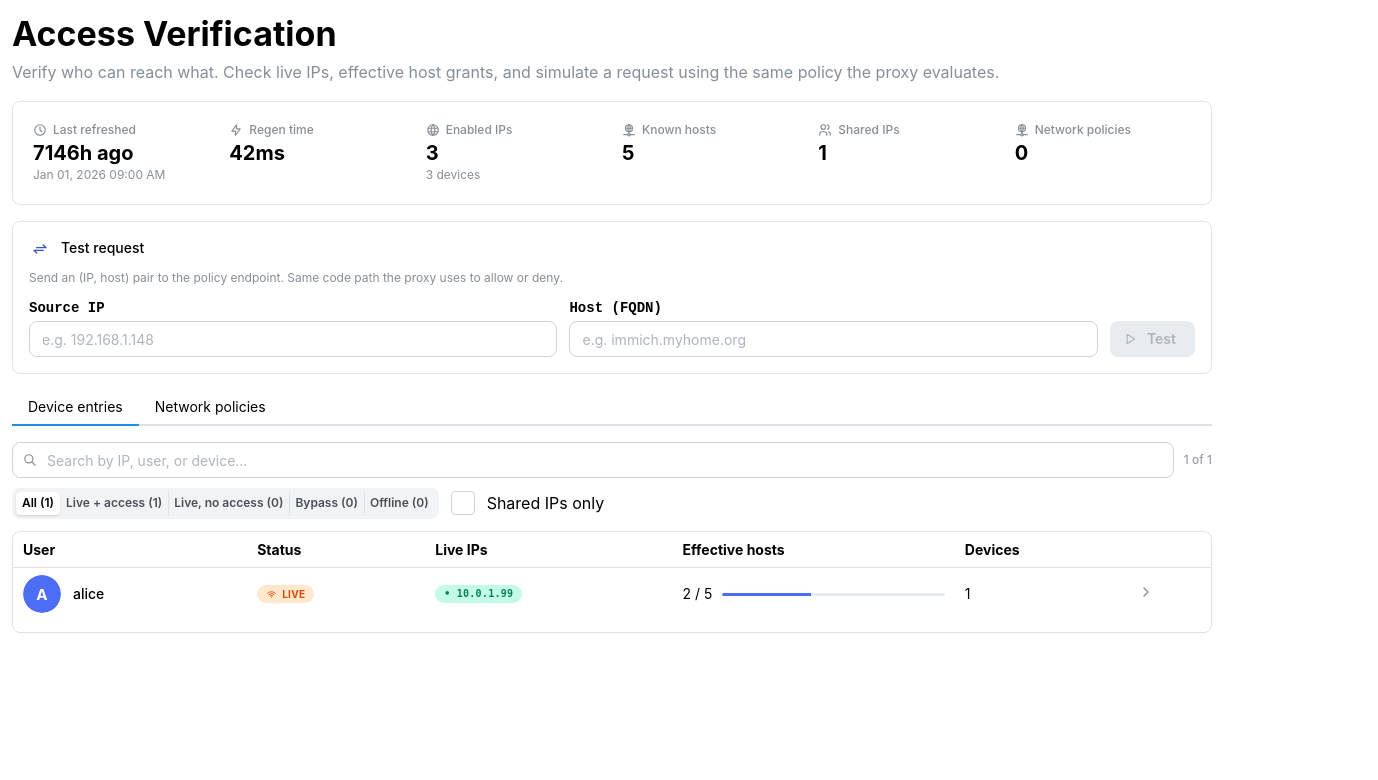
Test: PolicyAuditPage › clicking an IP badge populates the Source IP field in SimulateBar
Click the text "• 10.0.1.99" at (479, 594), box [444,586,513,602]
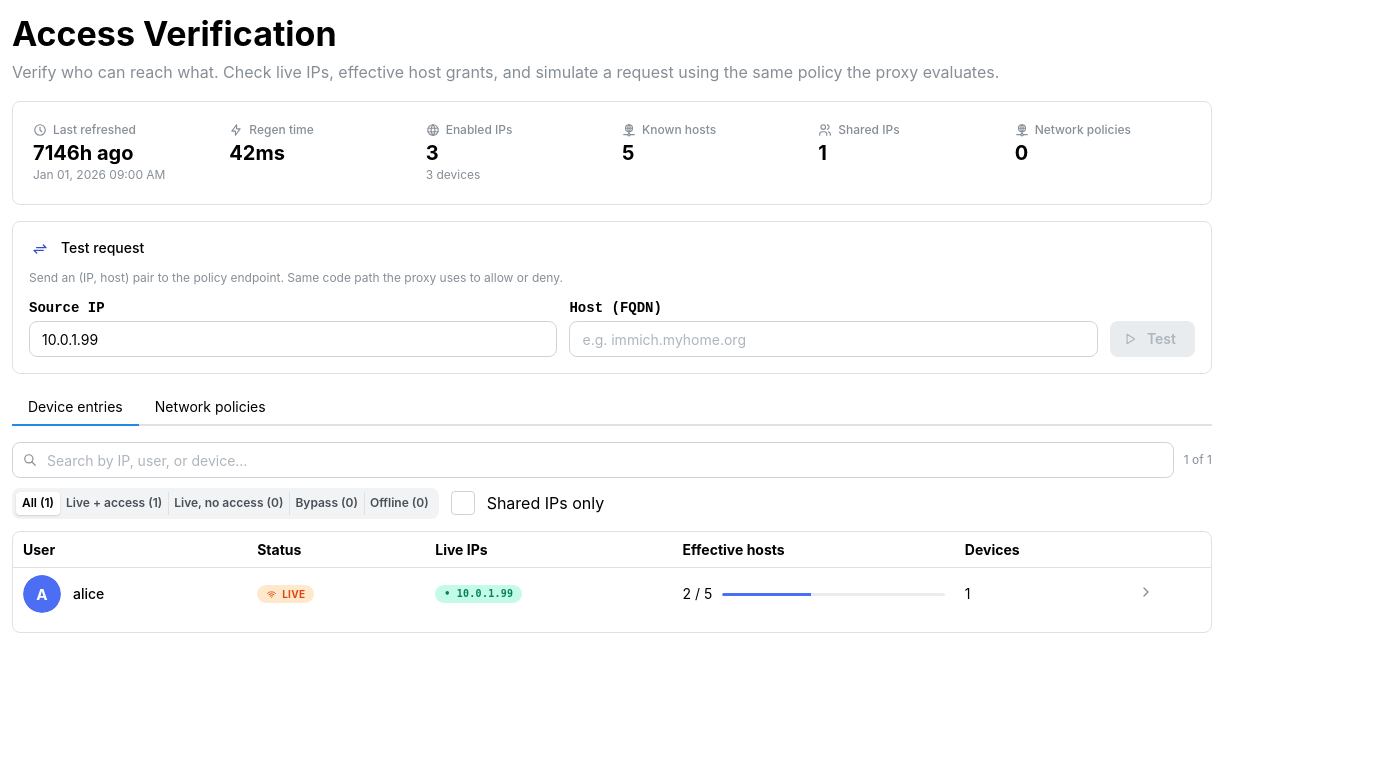
Check: the field labelled "Source IP" holds "10.0.1.99", box [29,321,558,357]
